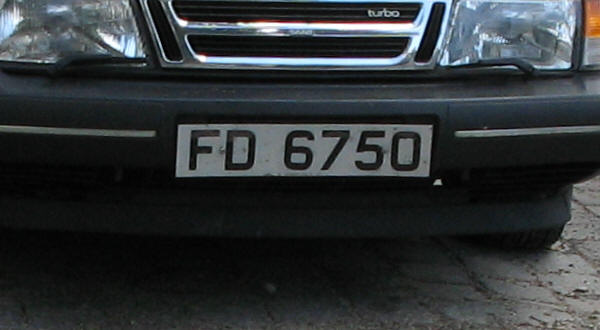license_plate: (175, 122, 433, 179)
